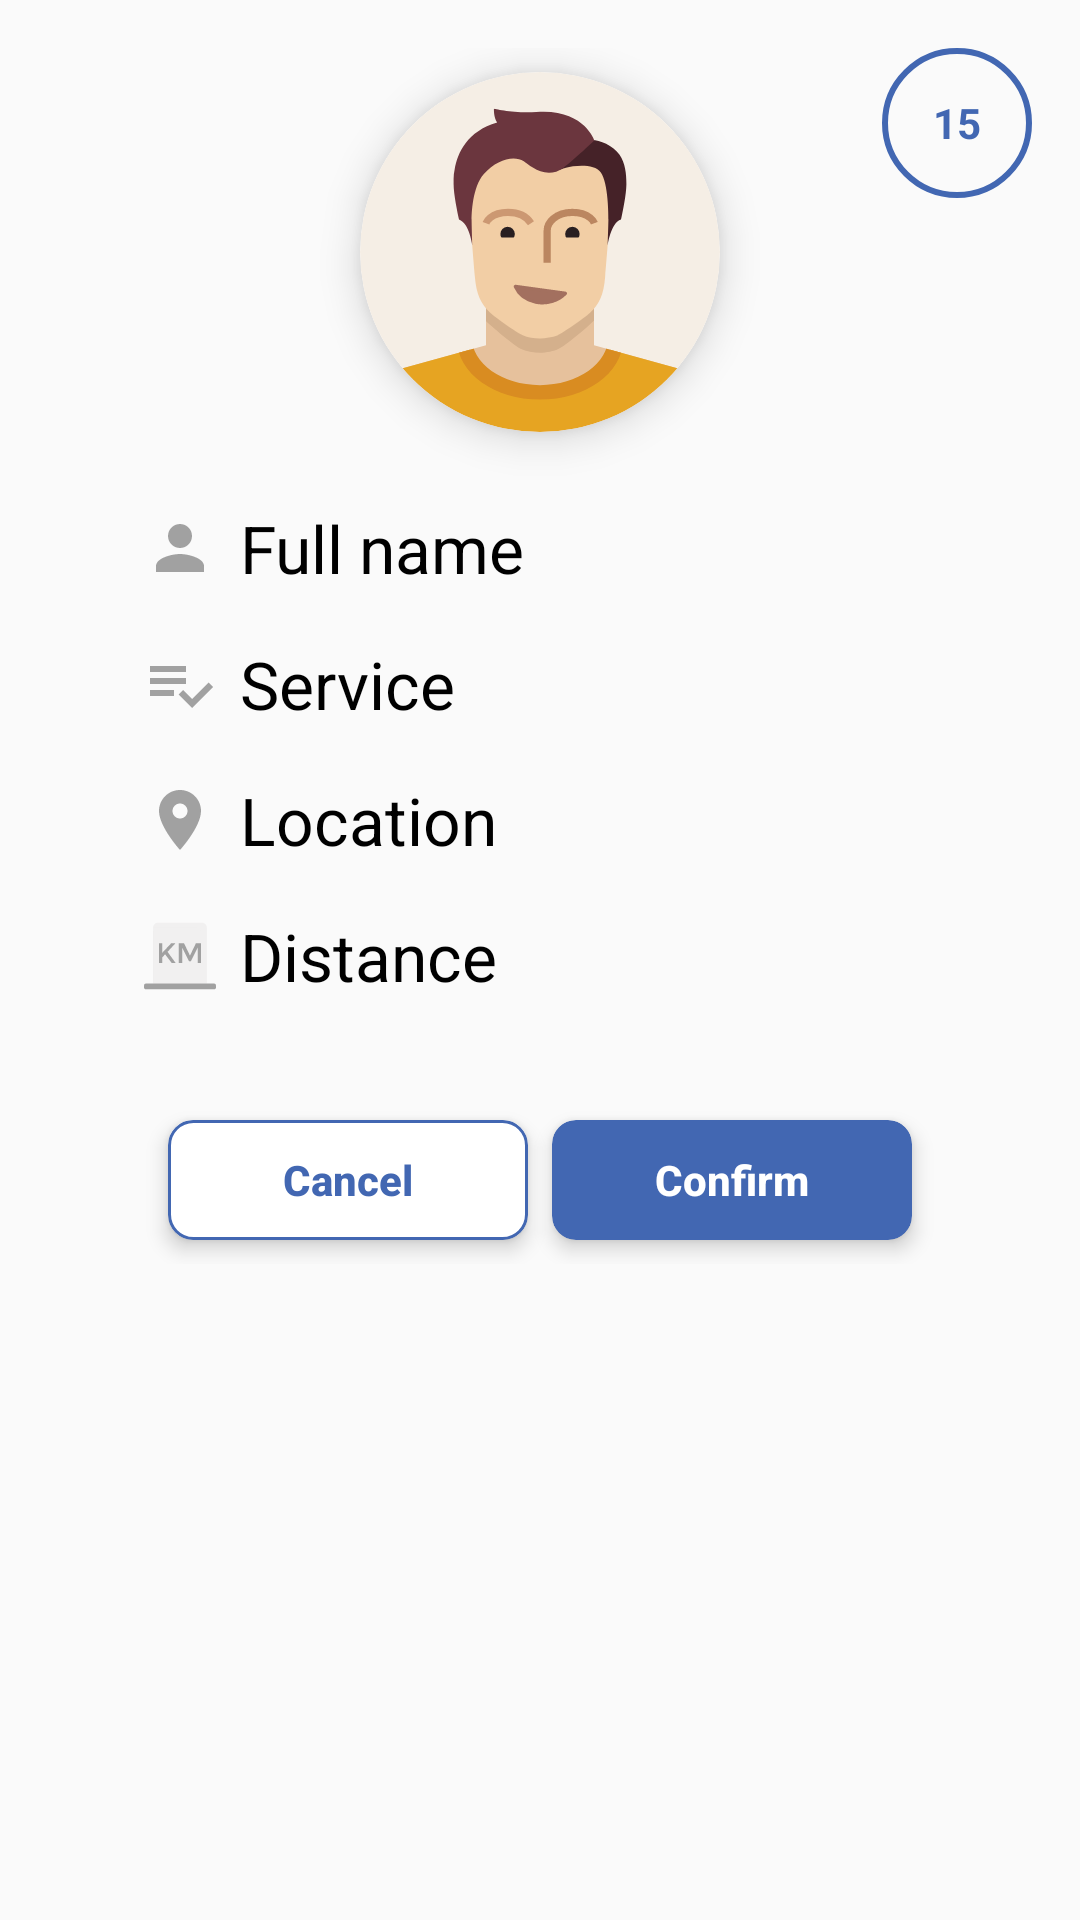

Icons on this 1080×1920 Android screen, each with its box as (left=x1, top=y1, right=x2, bottom=y2):
kilometers: (left=144, top=923, right=216, bottom=990)
list job: (left=150, top=666, right=213, bottom=708)
person: (left=156, top=524, right=204, bottom=572)
